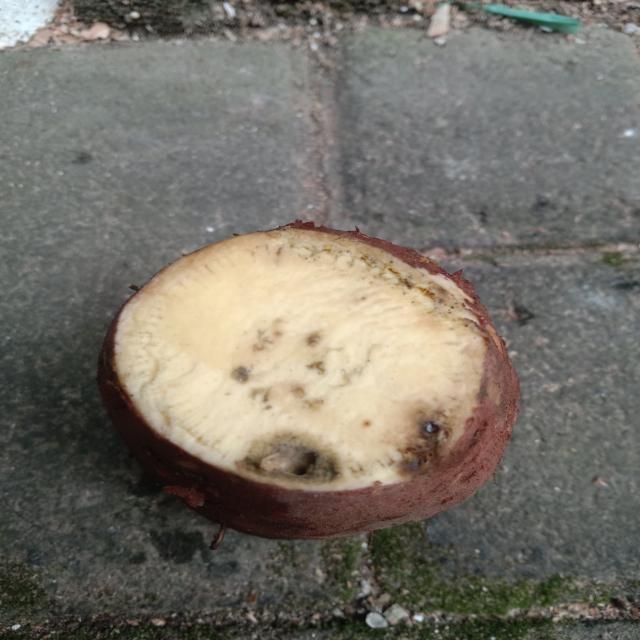Sick Sweet Potato_Tuber Rot: (113, 228, 490, 490)
